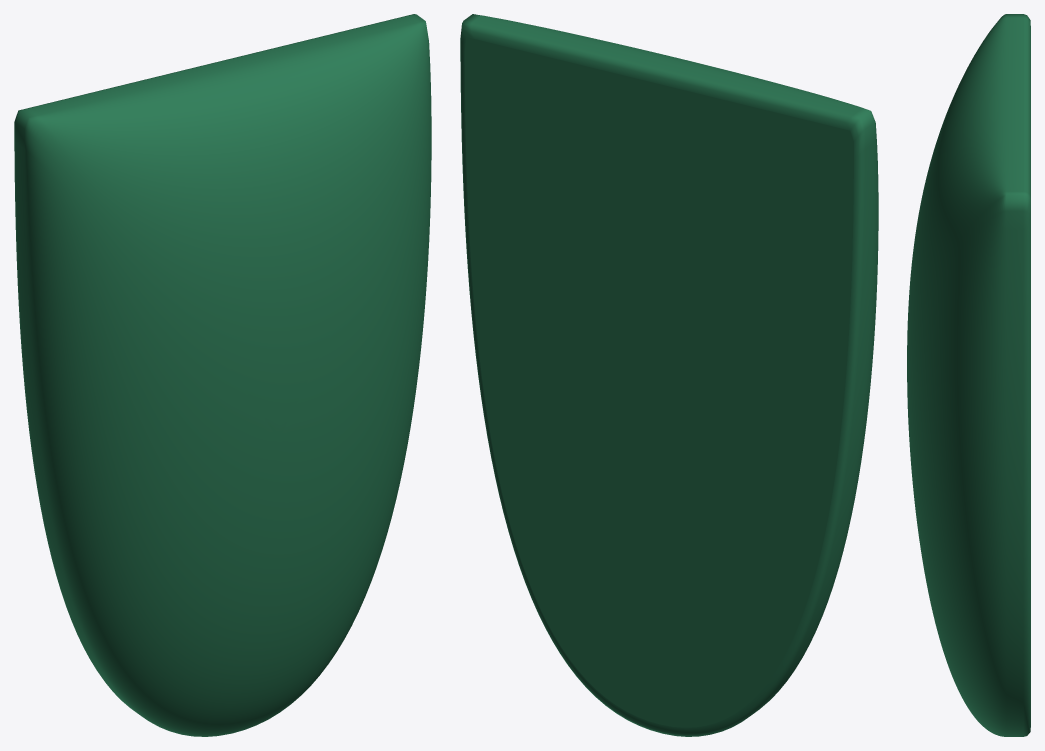
File: tongue.glb
3 renders of one model, left to right at view 1: azimuth 30°, elevation 25°; view 2: azimuth 150°, elevation 25°; view 3: azimuth 270°, elevation 25°, orthographic. The views are drawn at different scales.
Visible parts, largest first — view 1: Tongue Cabochon 22x14x4mm; view 2: Tongue Cabochon 22x14x4mm; view 3: Tongue Cabochon 22x14x4mm.
Boxes of the visible parts, bbox=[...] form: Tongue Cabochon 22x14x4mm: bbox=[14, 14, 431, 736]; Tongue Cabochon 22x14x4mm: bbox=[460, 14, 878, 736]; Tongue Cabochon 22x14x4mm: bbox=[907, 14, 1030, 736].
Size of the model in its own units: 0.014 by 0.022 by 0.00398.
